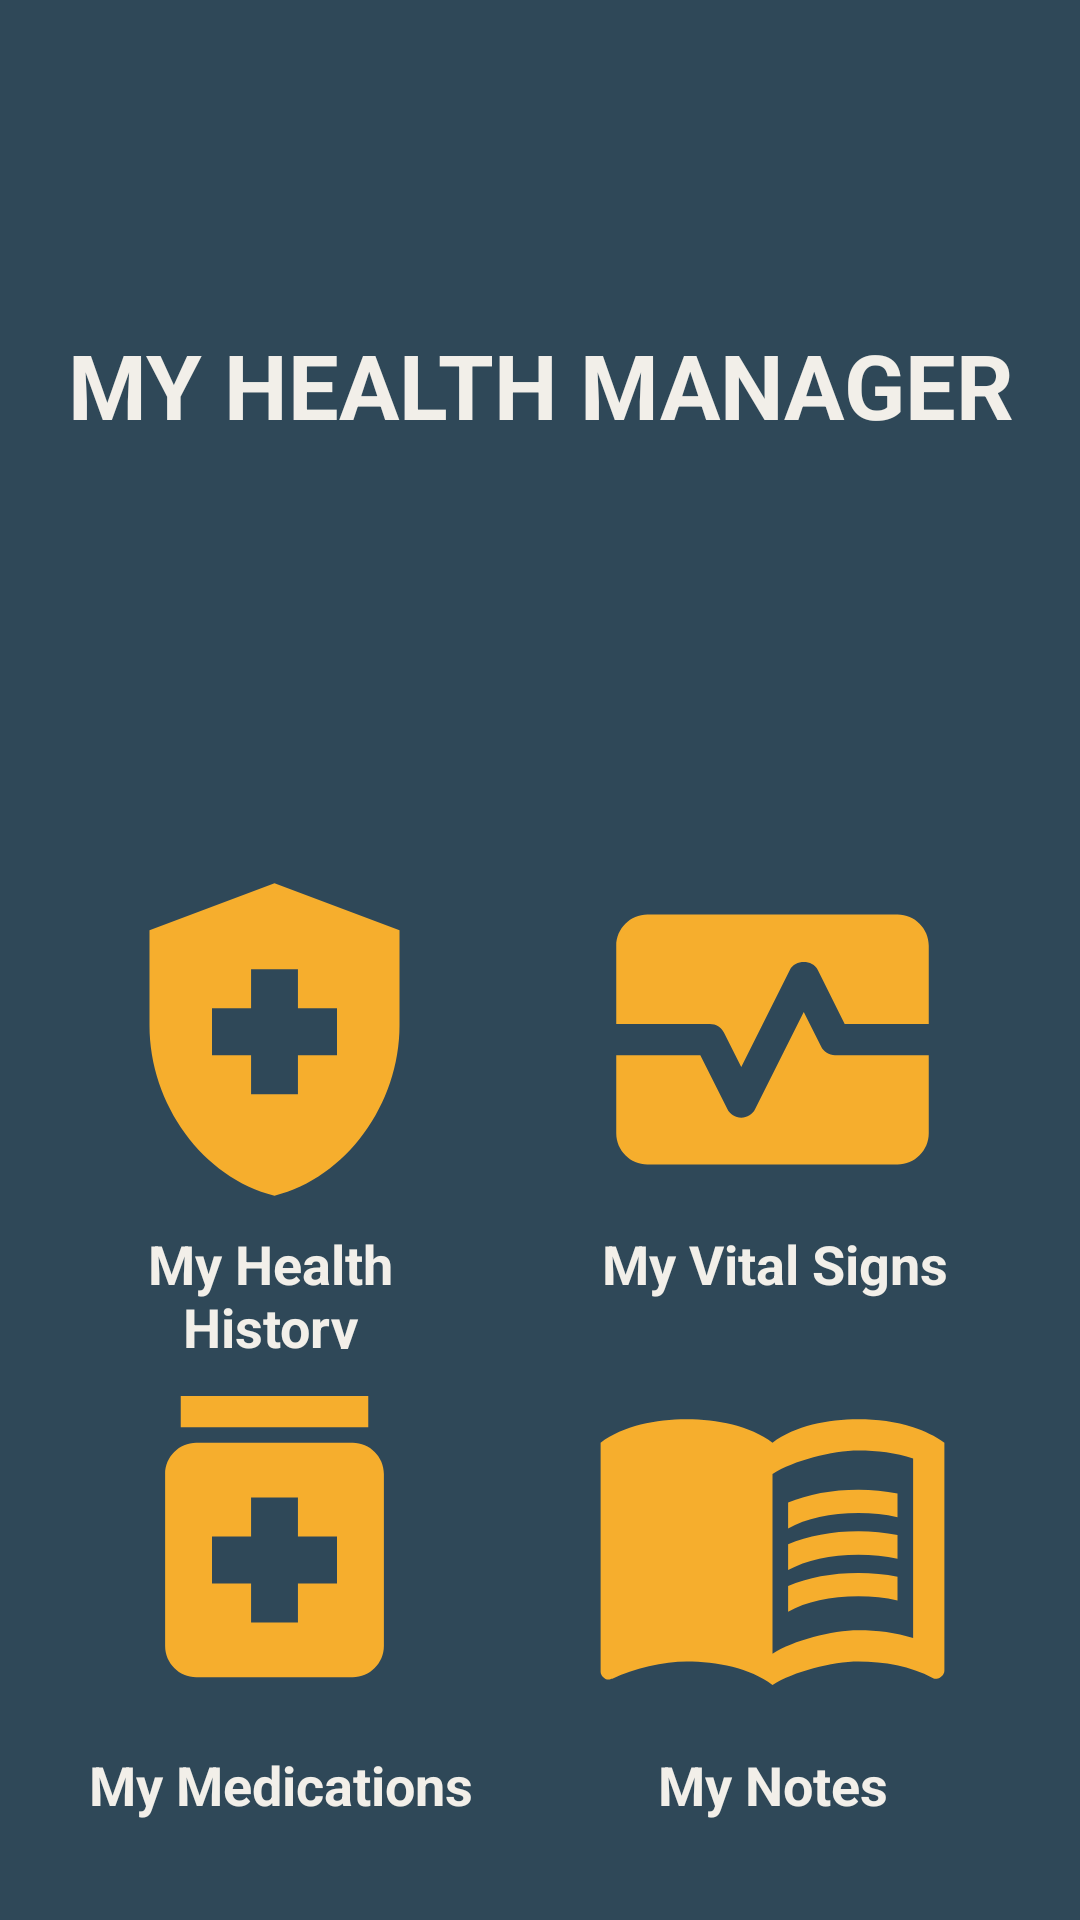

Icon click points for this 1080x1920 phone screenshot, format (x,y):
heart monitor: (772,1039)
medication bottle: (274,1537)
